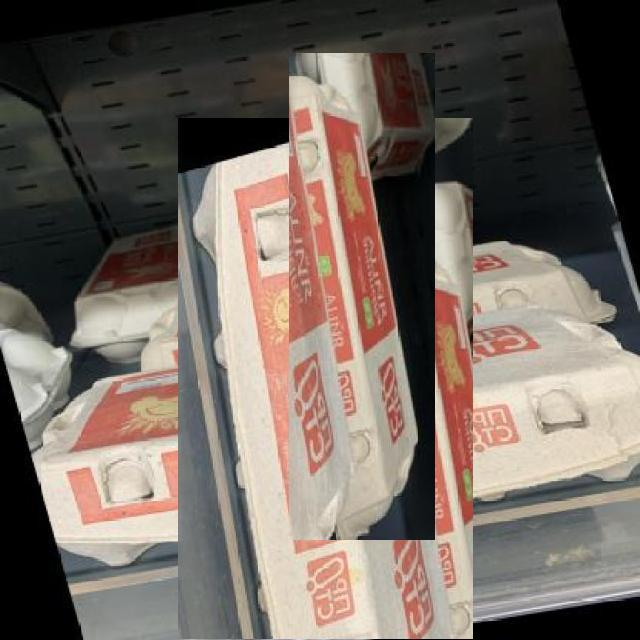Egg: (177, 118, 473, 640), (288, 53, 435, 540)
